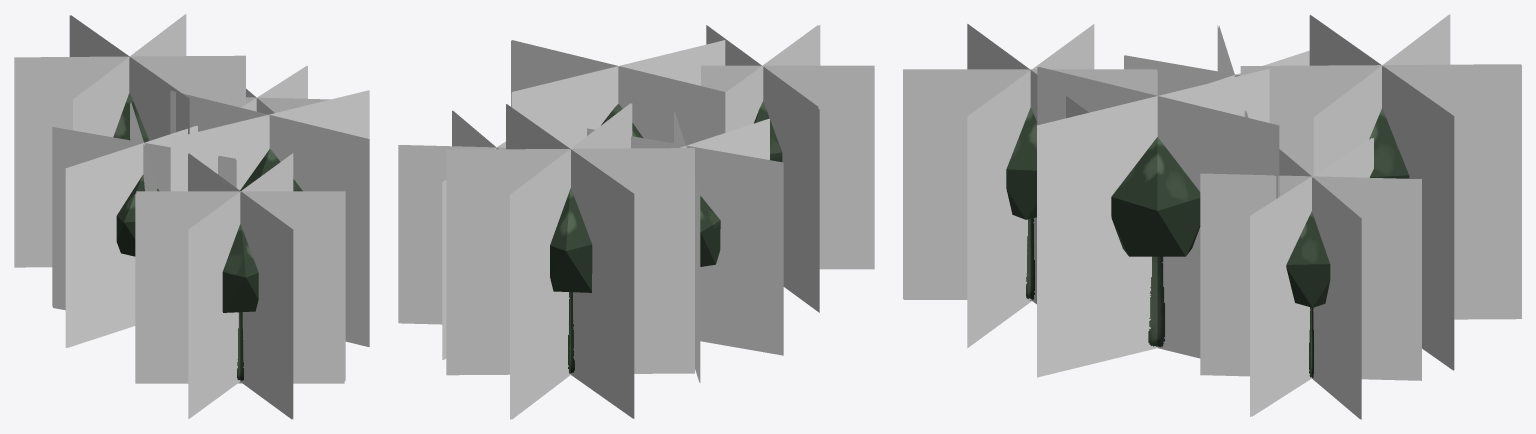
The model's file is Mushrooms_04.fbx.
3 views of the same model, side by side, from view 1: azimuth 30°, elevation 25°; view 2: azimuth 150°, elevation 25°; view 3: azimuth 270°, elevation 25° (orthographic). The views are drawn at different scales.
Visible parts, largest first — view 1: Mushrooms04; view 2: Mushrooms04; view 3: Mushrooms04.
Boxes of the visible parts, box(x1,y1,x2,y2) form: Mushrooms04: box(14, 14, 369, 419); Mushrooms04: box(398, 25, 874, 419); Mushrooms04: box(903, 14, 1521, 419).
Size of the model in its own units: 0.1515 by 0.1022 by 0.223.
Materials: 1 (1 with a texture image).
